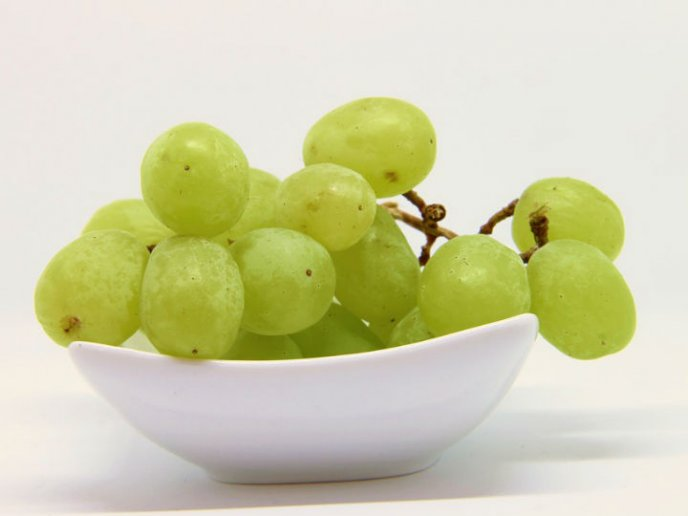Green grapes: (18, 86, 639, 343), (135, 122, 247, 238), (307, 101, 440, 190)
